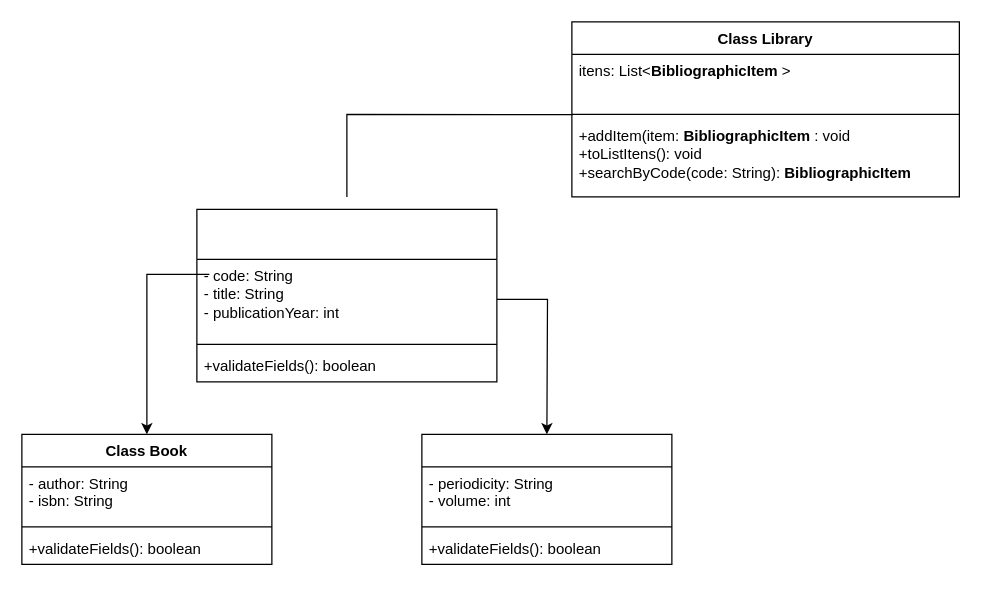
The diagram is 981 pixels wide and 590 high, and some of its shapes have lost their labels. The box of each missing label's shape, as (x1, y1, x2, y2) in pixels:
<<abstract>> Class BibliographicItem: (196, 208, 497, 382)
Class Periodic: (421, 433, 672, 564)
